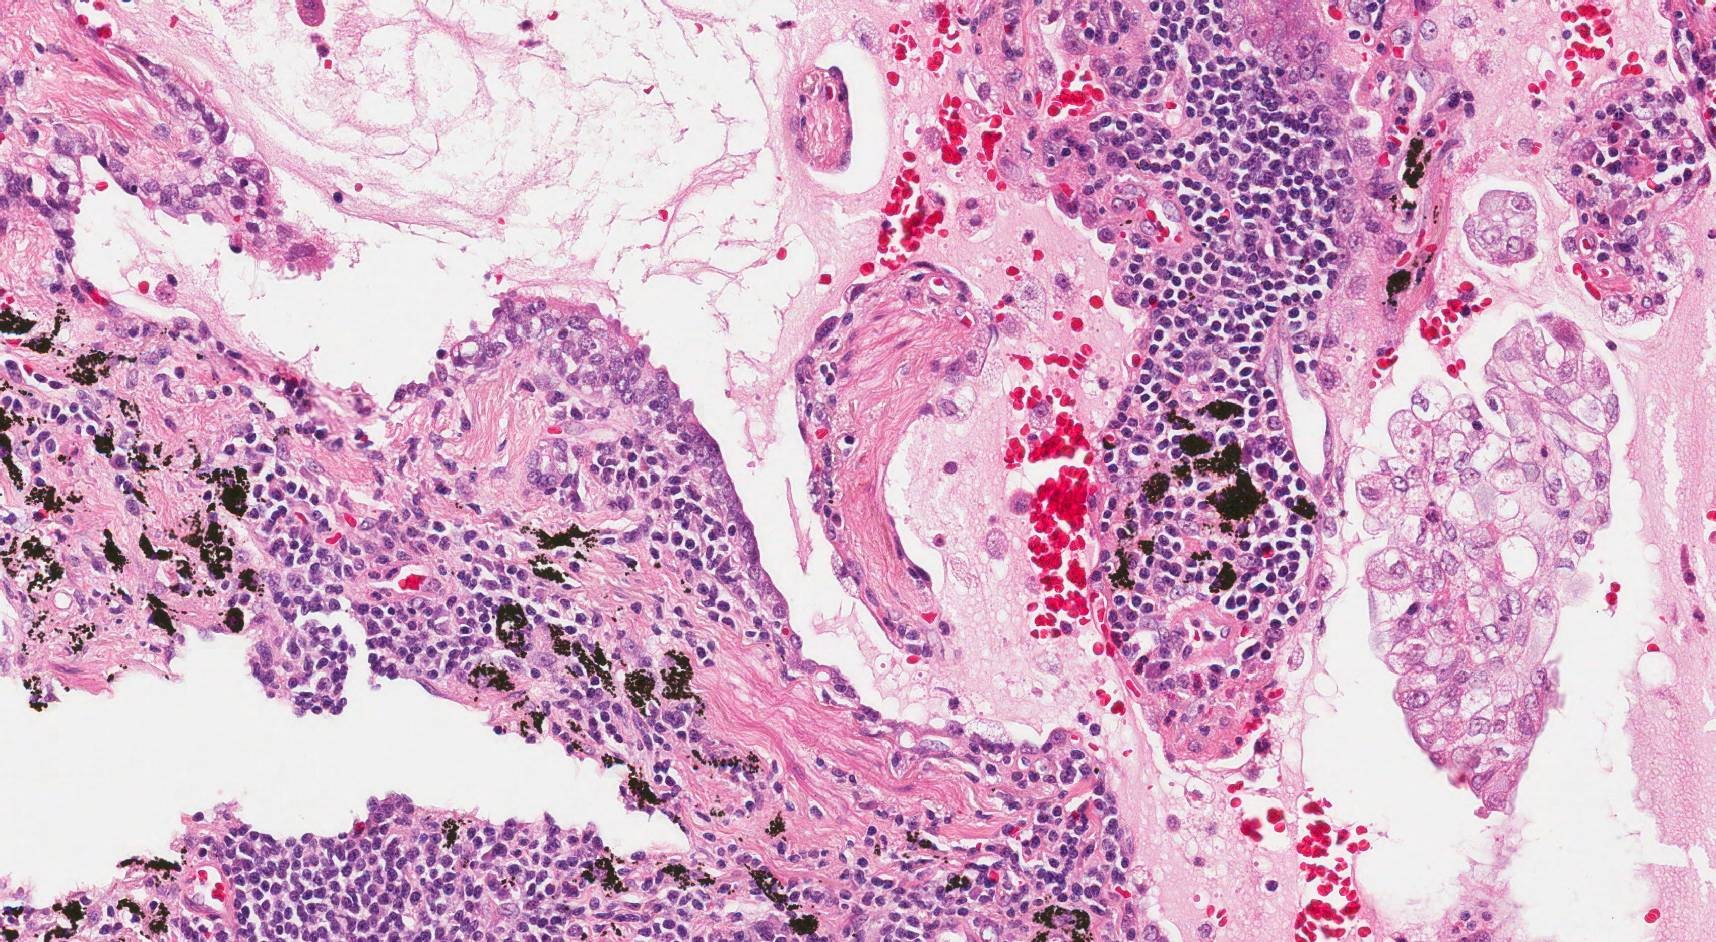stas: (1356, 310, 1620, 815), (1461, 190, 1541, 265)
